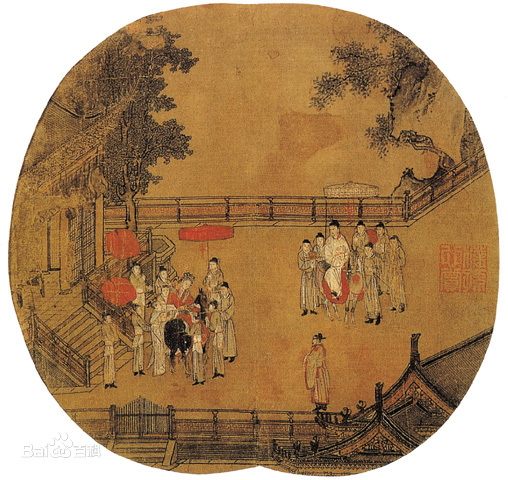horse: (162, 290, 217, 375), (315, 243, 365, 323), (324, 220, 354, 304), (385, 233, 410, 315), (360, 242, 383, 325), (374, 220, 391, 308), (351, 219, 368, 267), (313, 230, 325, 261)
house: (9, 82, 159, 396), (282, 327, 497, 471)
man: (305, 332, 335, 415), (215, 280, 240, 368), (202, 299, 227, 381), (149, 297, 173, 381), (128, 301, 150, 380), (185, 309, 208, 384), (99, 309, 120, 390), (298, 239, 318, 313), (203, 258, 226, 306), (150, 261, 171, 312), (130, 261, 147, 322), (156, 282, 170, 311)
tree: (91, 26, 194, 235), (302, 51, 427, 128), (367, 116, 464, 205)
woman: (170, 273, 204, 332)
